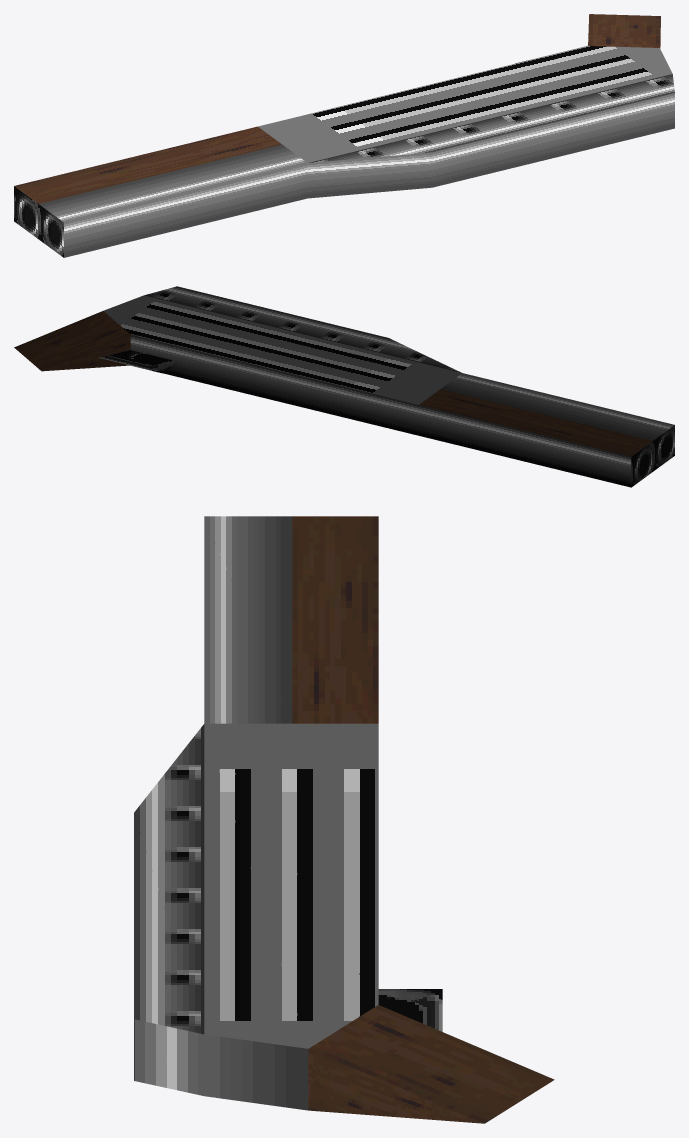
The model's file is PchrautoshotZ.obj.
3 renders of one model, top to bottom at view 1: azimuth 30°, elevation 25°; view 2: azimuth 150°, elevation 25°; view 3: azimuth 270°, elevation 25°, orthographic. The views are drawn at different scales.
Size of the model in its own units: 681 by 34 by 210.
Materials: 8 (8 with a texture image).
